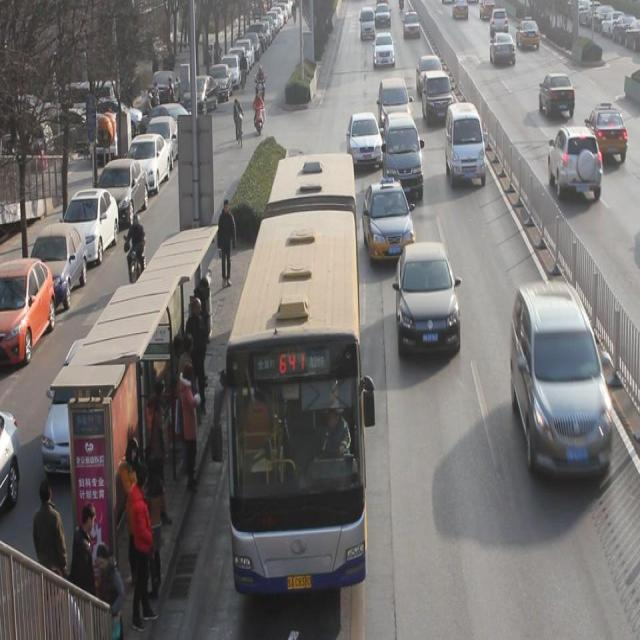car: (511, 282, 611, 480), (396, 241, 461, 359), (363, 177, 415, 263), (546, 126, 603, 200), (590, 102, 628, 162), (348, 111, 382, 166), (422, 70, 454, 124), (539, 72, 575, 118), (378, 77, 410, 123), (416, 52, 442, 90), (489, 32, 516, 66), (372, 33, 396, 68), (515, 16, 541, 48), (402, 8, 420, 38)
truck: (443, 101, 486, 186), (383, 111, 423, 197), (360, 1, 376, 39)
van: (225, 153, 364, 590)
